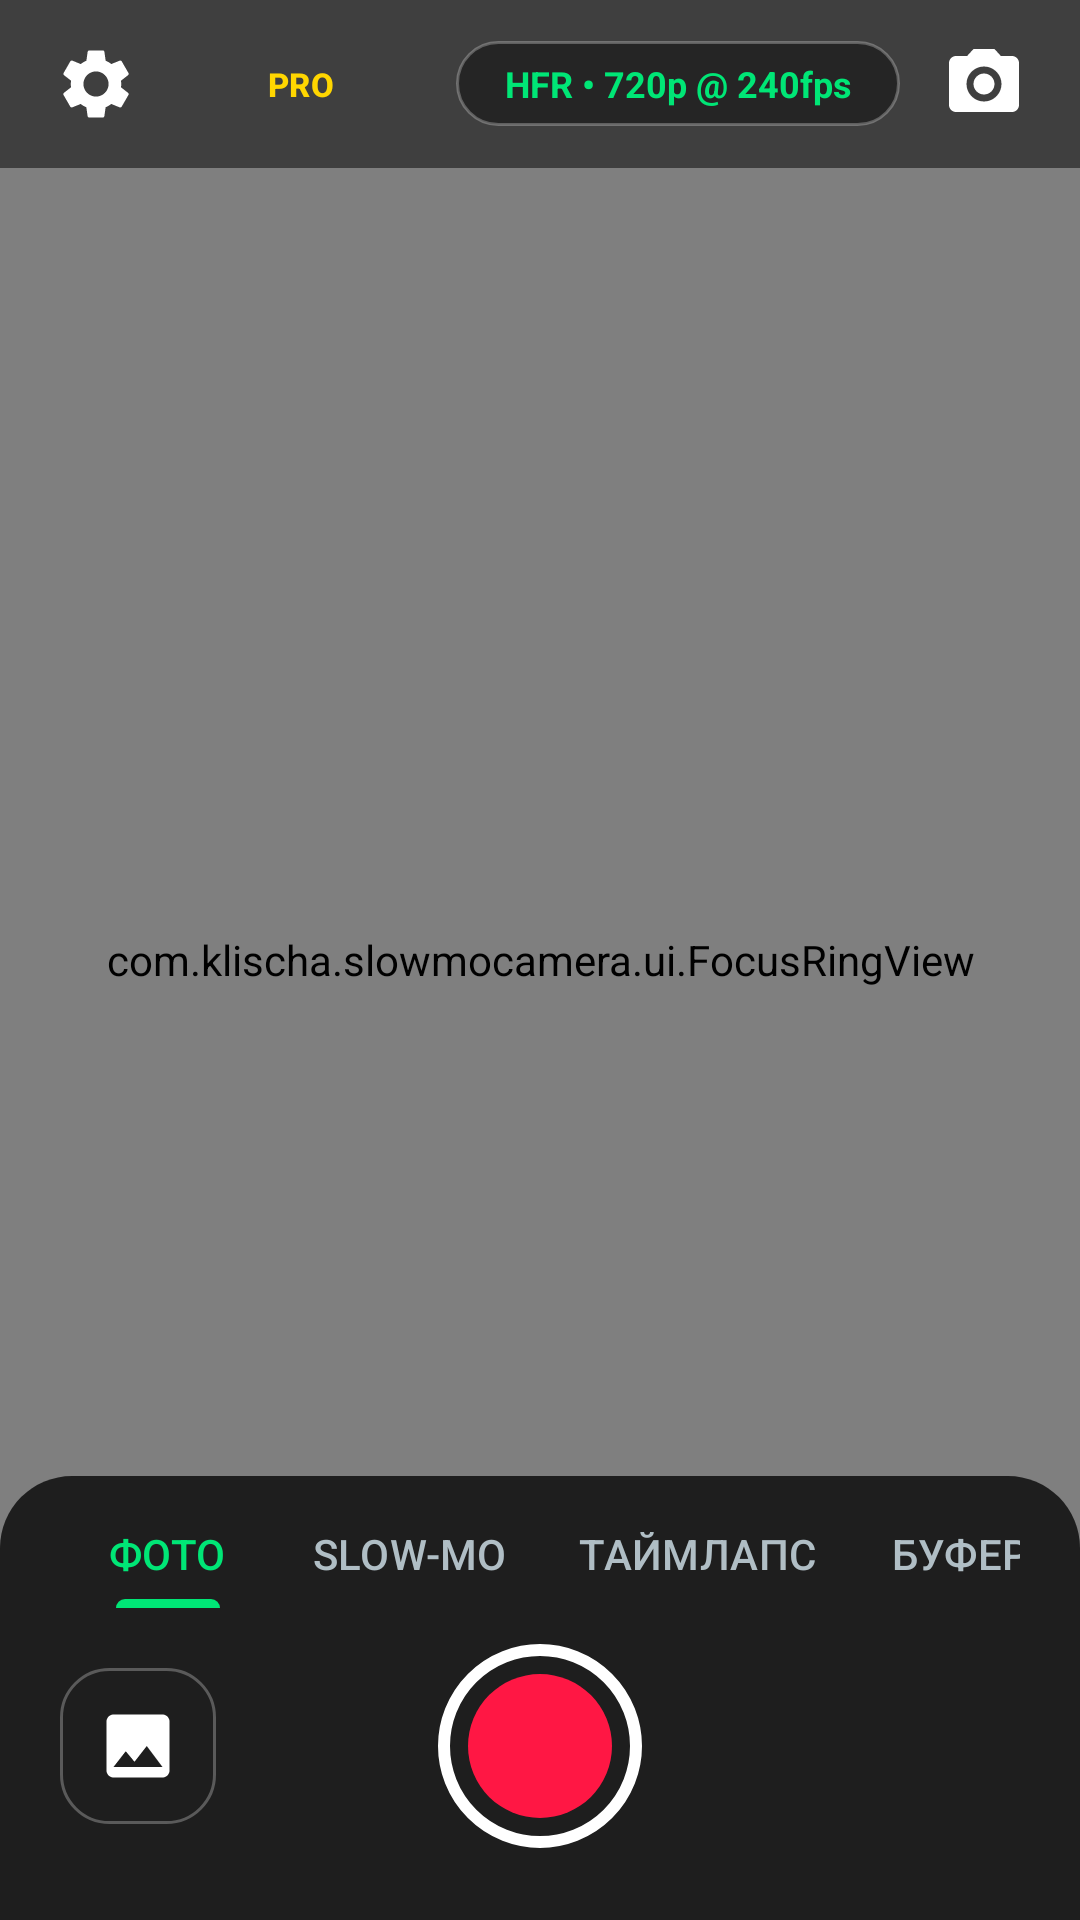

Named icons in this screenshot (1080px×1920px) and their bounding boxes, (x1, y1, x2, y2):
История записей: (60, 1668, 216, 1824)
Настройки съёмки: (63, 50, 129, 118)
Сменить камеру: (949, 49, 1019, 112)
Спуск затвора: (438, 1644, 642, 1848)
